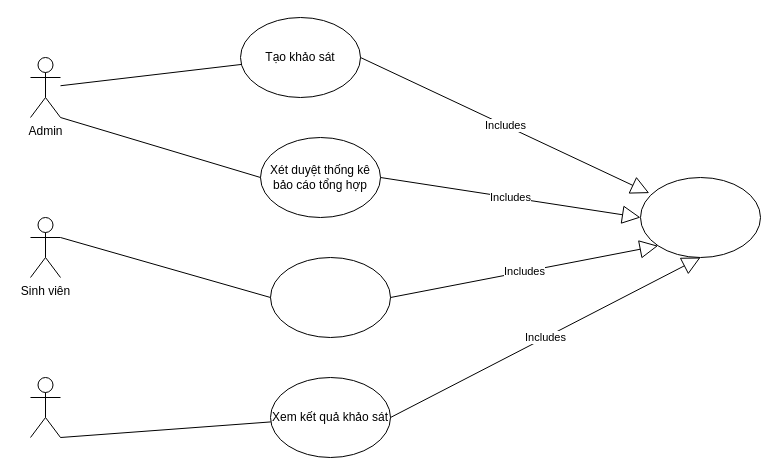
The diagram is 778 pixels wide and 476 high, and some of its shapes have lost their labels. The shapes that lost their labels are listed below. From the top down, each one's centre as x and y in pixels, then its label:
pixel 700 217: Đăng nhập
pixel 330 297: Thực hiện khảo sát
pixel 45 407: Giảng viên
